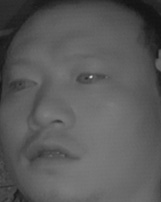eye: (74, 66, 111, 88), (9, 72, 40, 94)
mouth: (23, 133, 83, 169)
